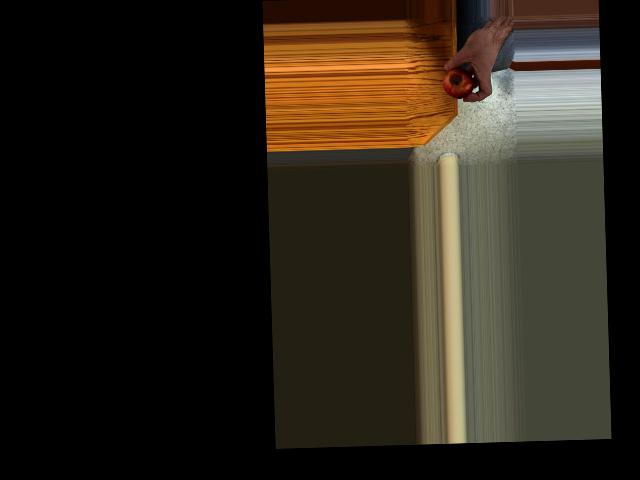apple: (442, 61, 473, 99)
